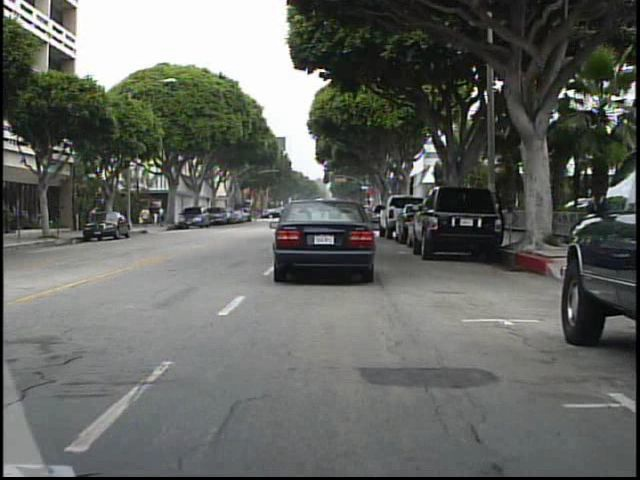person: (140, 203, 156, 233), (158, 203, 171, 230)
